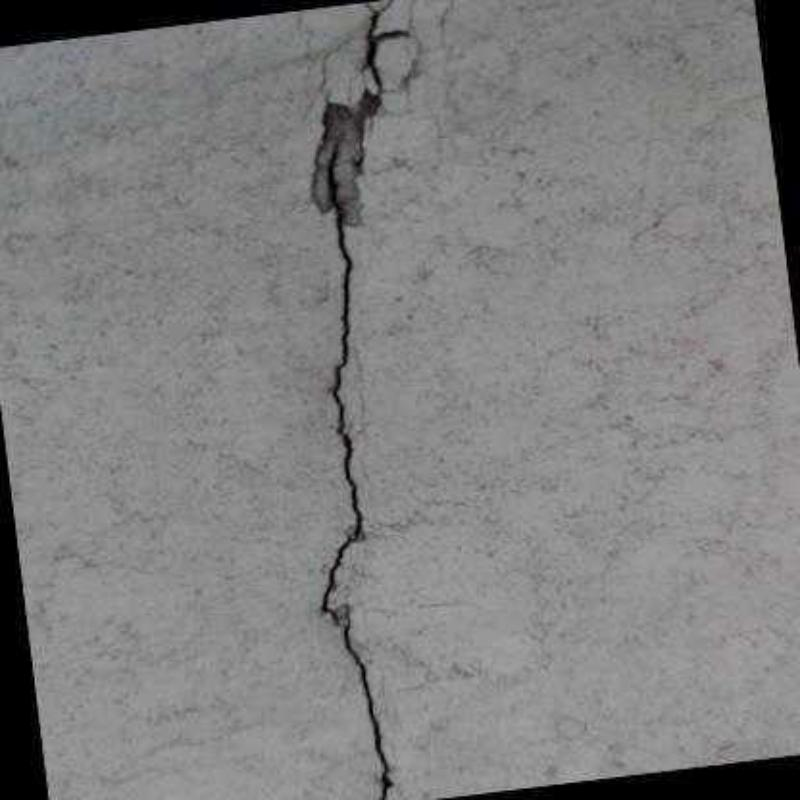crack: (310, 0, 410, 798)
